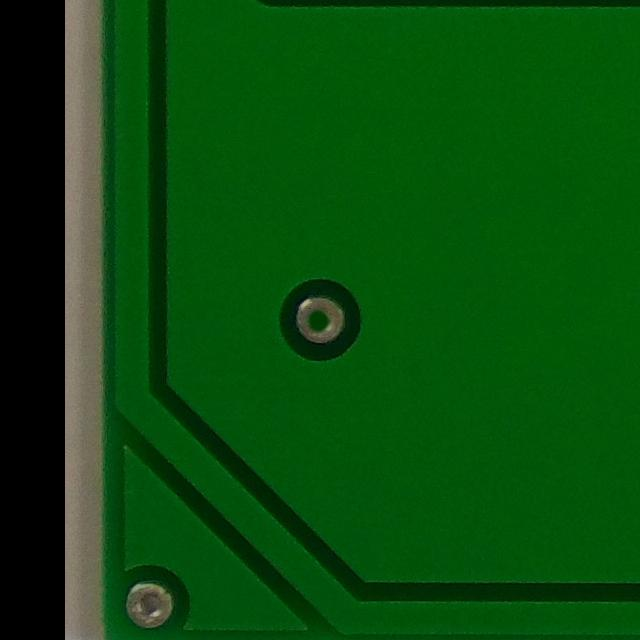missing_hole: (284, 287, 354, 352)
